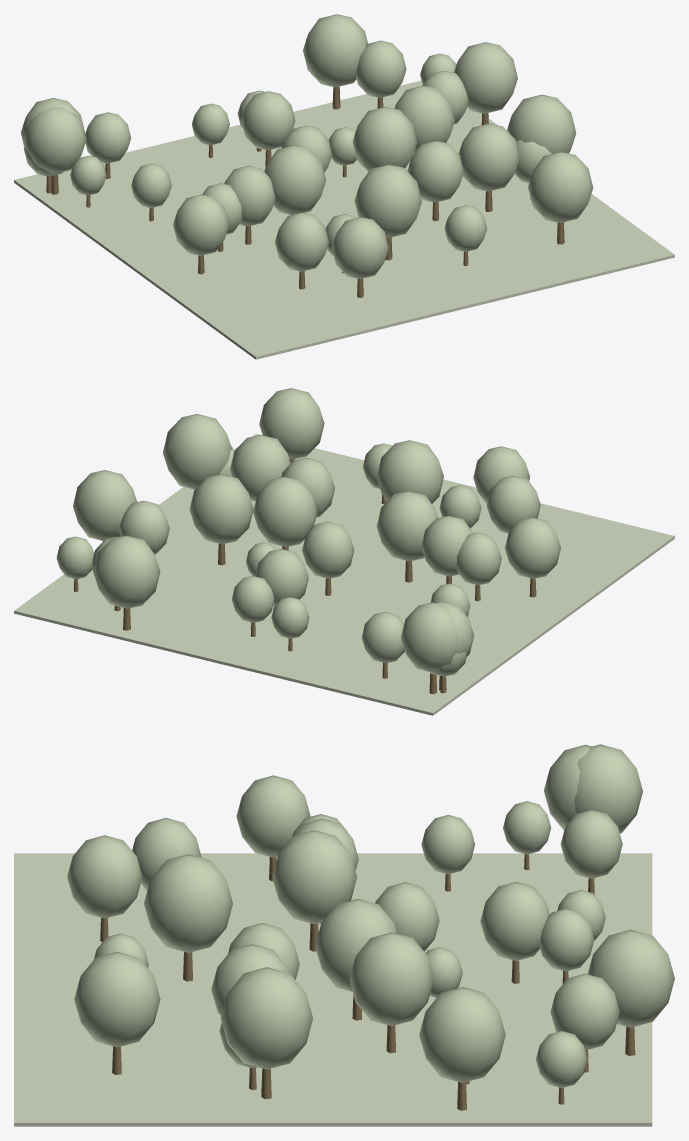
3 views of the same model, one above another, from view 1: azimuth 30°, elevation 25°; view 2: azimuth 150°, elevation 25°; view 3: azimuth 270°, elevation 25° (orthographic). The views are drawn at different scales.
Parts seen in each view (by area): view 1: terrain, lod-near-10, lod-near-6, lod-near-0, lod-near-18, lod-near-30, lod-near-8, lod-near-26, lod-near-1, lod-near-12, lod-near-28, lod-near-9 (+18 smaller); view 2: terrain, lod-near-12, lod-near-6, lod-near-26, lod-near-21, lod-near-10, lod-near-18, lod-near-0, lod-near-20, lod-near-30, lod-near-9, lod-near-8 (+17 smaller); view 3: terrain, lod-near-12, lod-near-0, lod-near-18, lod-near-10, lod-near-21, lod-near-30, lod-near-6, lod-near-28, lod-near-9, lod-near-20, lod-near-24 (+16 smaller).
Part boxes in pixels (x1,y1,x2,y2): terrain: (14,80,674,359); lod-near-10: (528,151,593,222); lod-near-6: (303,14,367,87); lod-near-0: (354,164,421,238); lod-near-18: (454,42,517,113); lod-near-30: (264,145,326,214); lod-near-8: (458,123,519,191); lod-near-26: (352,107,416,171); lod-near-1: (23,106,86,173); lod-near-12: (507,94,576,153); lod-near-28: (332,217,388,279); lod-near-9: (173,194,229,255); terrain: (14,434,674,715); lod-near-12: (163,414,231,489); lod-near-6: (93,535,160,608); lod-near-26: (253,476,317,546); lod-near-21: (189,474,253,544); lod-near-10: (259,388,324,459); lod-near-18: (73,470,137,540); lod-near-0: (376,440,443,503); lod-near-20: (401,602,457,672); lod-near-30: (376,491,438,561); lod-near-9: (505,517,560,578); lod-near-8: (230,435,290,501); terrain: (14,853,652,1126); lod-near-12: (220,967,312,1069); lod-near-0: (144,854,232,952); lod-near-18: (419,987,505,1082); lod-near-10: (74,951,160,1047); lod-near-21: (349,932,433,1025); lod-near-30: (272,830,357,924); lod-near-6: (588,929,674,1027); lod-near-28: (67,835,142,918); lod-near-9: (236,775,310,857); lod-near-20: (574,744,642,833); lod-near-24: (480,881,549,960).
Size of the model in its own units: 33.56 by 7.32 by 33.14.
